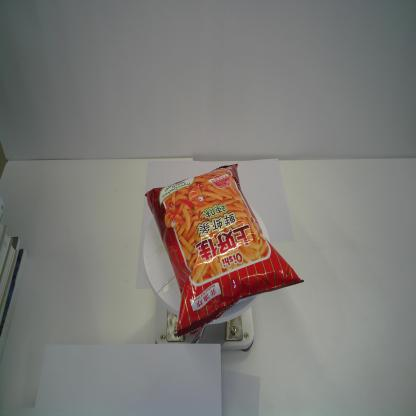Puffed Food: (144, 162, 305, 339)
